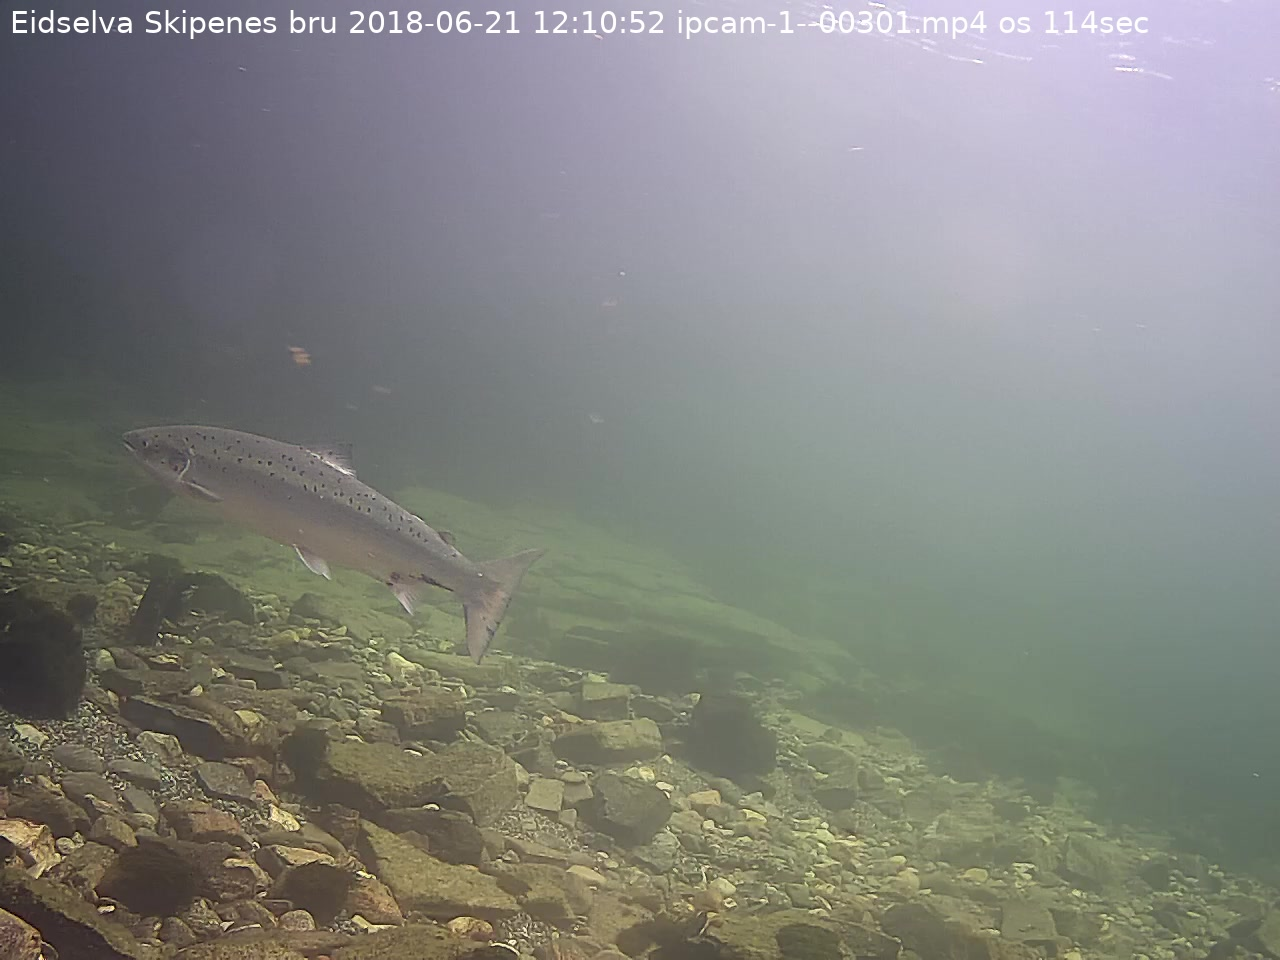salmon: (110, 412, 558, 672)
